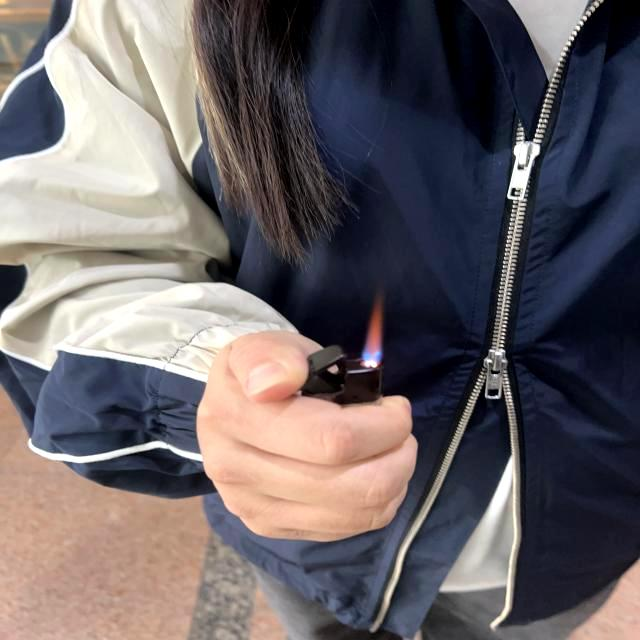fire: (359, 298, 389, 367)
